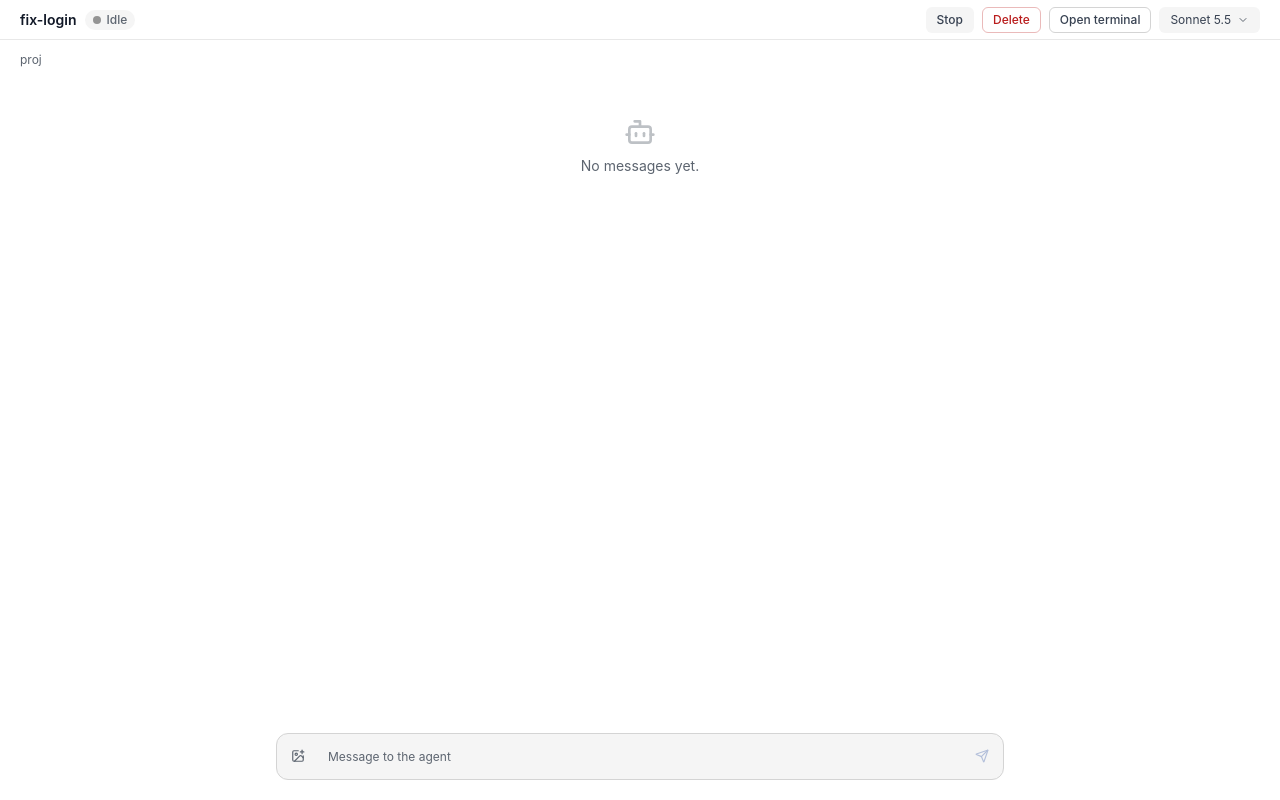
it: AgentDetail composer › a failed send shows a translated danger Callout and logs the raw error
This screenshot has width=1280, height=800.
Type "go" into the text box labelled "Message to the agent" at x=640, y=756, box [317,742,963,771]
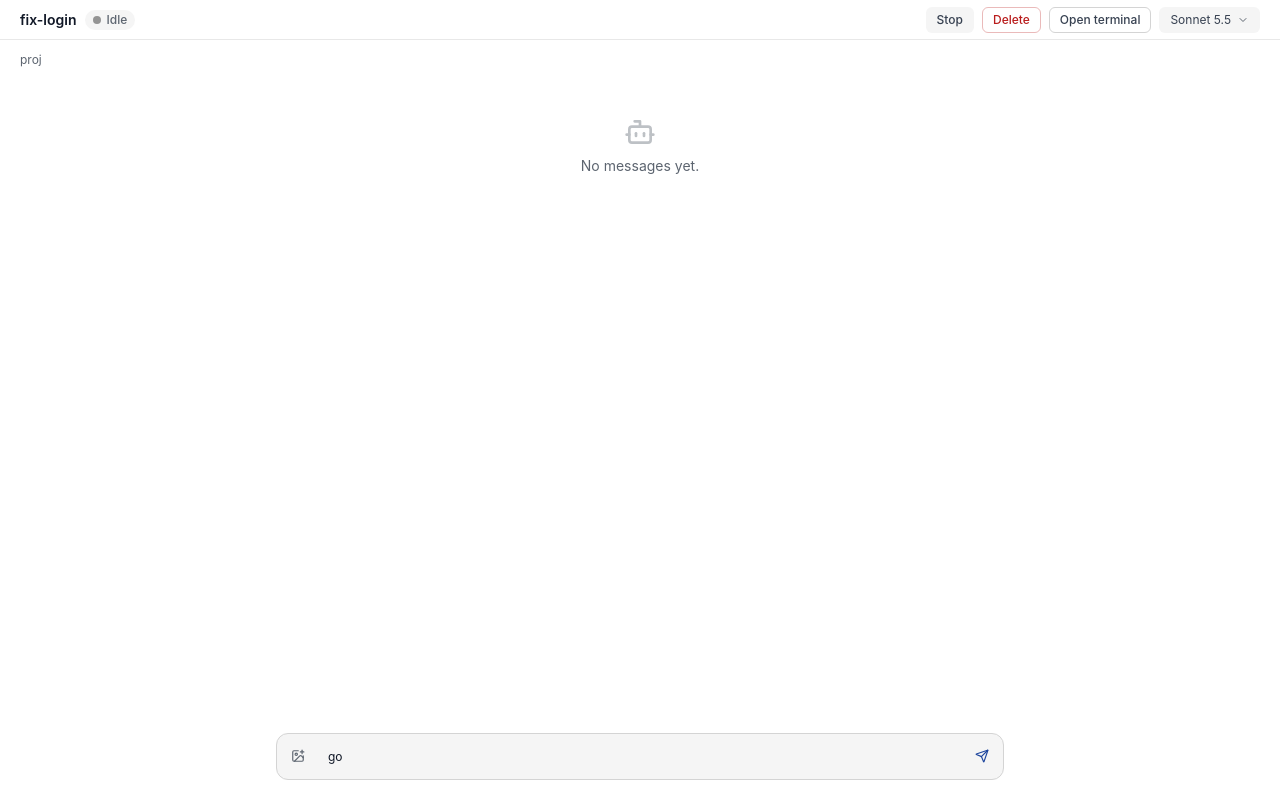
Click the button named "Send" at x=982, y=756, box [969,743,995,769]
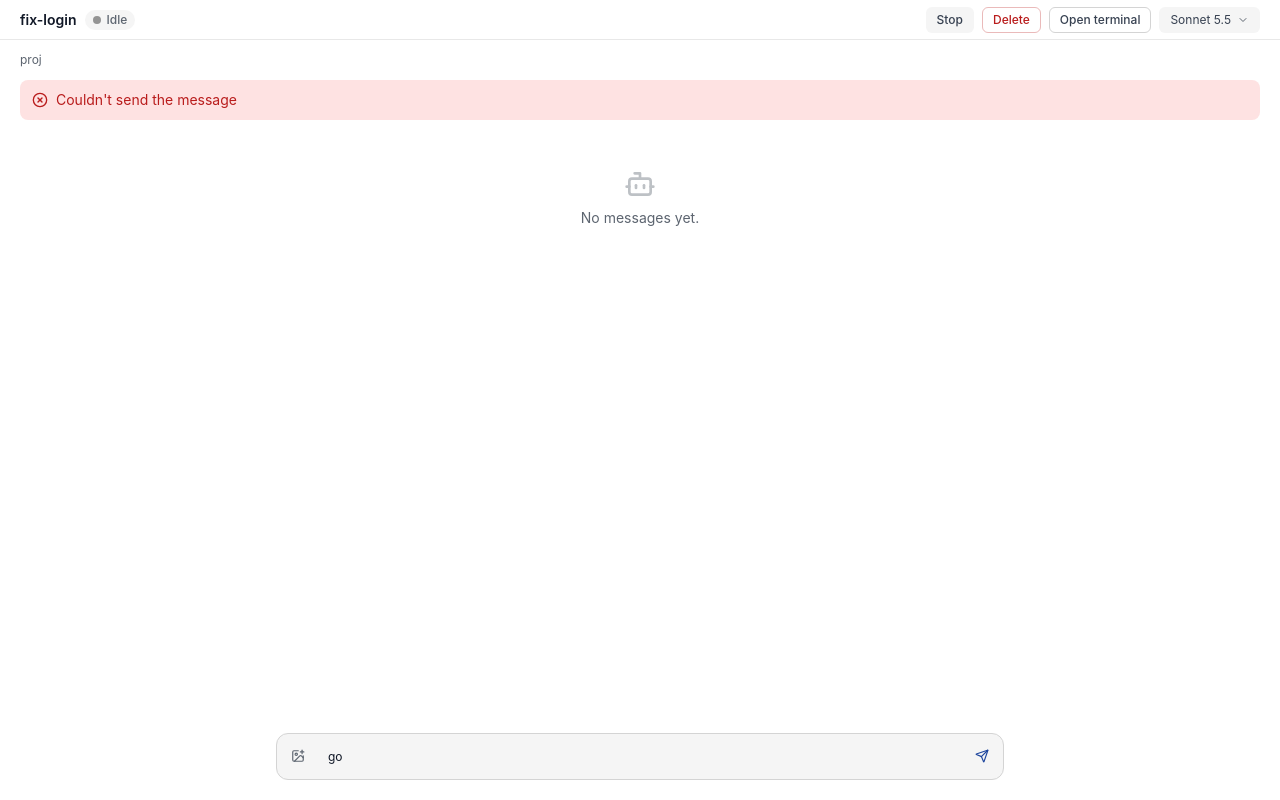
expect the message does not show "EPIPE": met, box [20,80,1260,120]
expect the message reads "Couldn't send the message": met, box [56,91,237,108]
